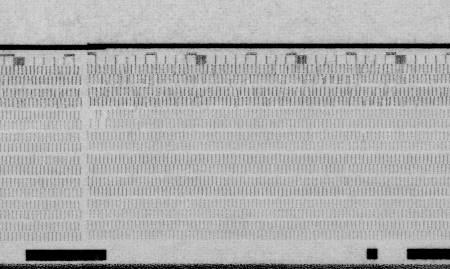Broken hole: (88, 109, 110, 130)
Oblique printing: (350, 83, 396, 107)
